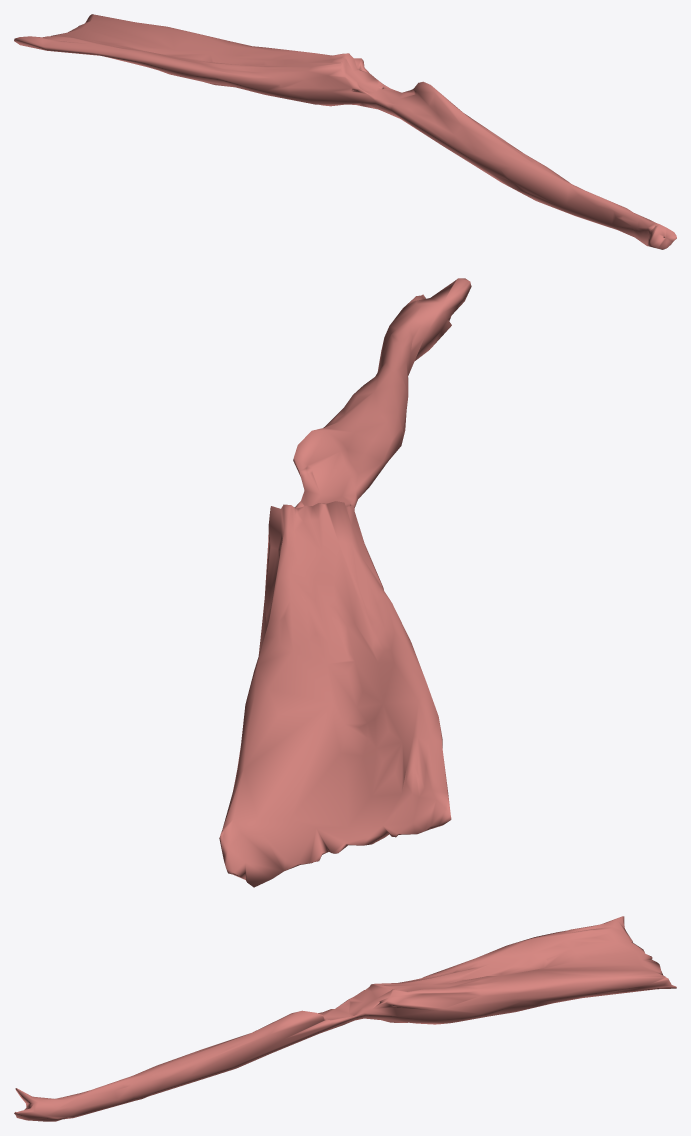
The picture shows the model from 3 angles, top to bottom: view 1: azimuth 30°, elevation 25°; view 2: azimuth 150°, elevation 25°; view 3: azimuth 270°, elevation 25°; orthographic projection. The views are drawn at different scales.
Visible parts, largest first — view 1: ZA_ecd9fd97ddefe07f; view 2: ZA_ecd9fd97ddefe07f; view 3: ZA_ecd9fd97ddefe07f.
Boxes of the visible parts, x1=… form: ZA_ecd9fd97ddefe07f: x1=14, y1=14, x2=676, y2=249; ZA_ecd9fd97ddefe07f: x1=219, y1=278, x2=471, y2=887; ZA_ecd9fd97ddefe07f: x1=14, y1=916, x2=676, y2=1121.
Size of the model in its own units: 0.071 by 0.0165 by 0.1274.
